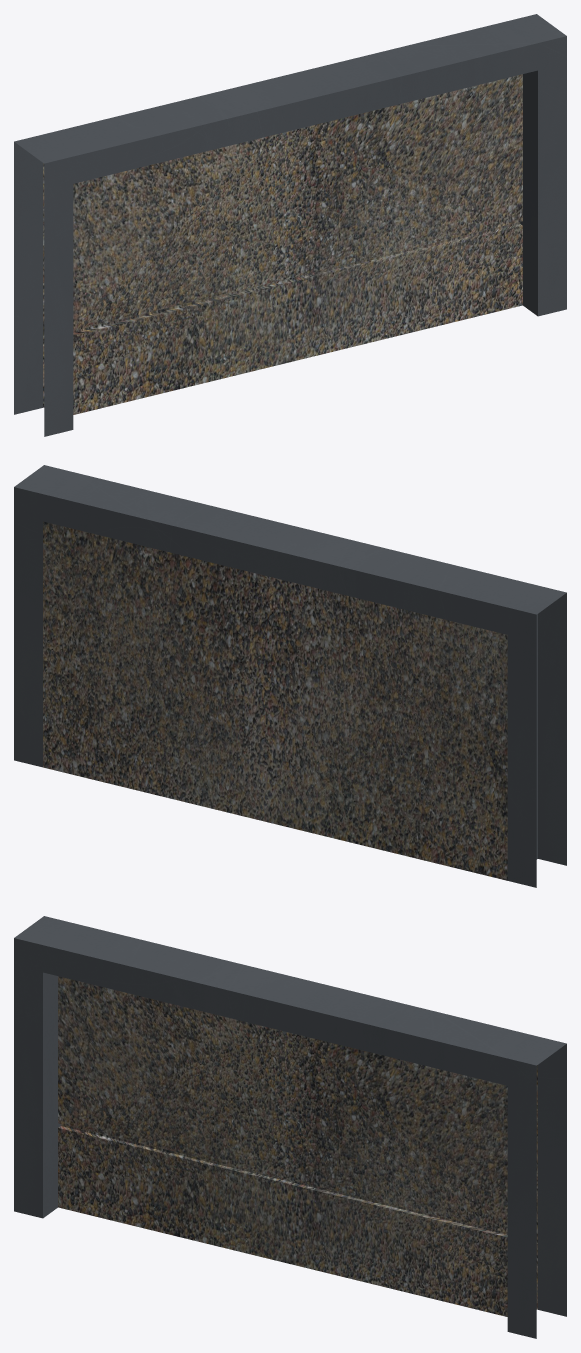
The model's file is WallTop.glb.
3 views of the same model, one above another, from view 1: azimuth 30°, elevation 25°; view 2: azimuth 150°, elevation 25°; view 3: azimuth 330°, elevation 25° (orthographic).
Visible parts, largest first — view 1: WallTop; view 2: WallTop; view 3: WallTop.
Part boxes in pixels (x1=…): WallTop: x1=14, y1=14, x2=566, y2=436; WallTop: x1=14, y1=465, x2=566, y2=887; WallTop: x1=14, y1=916, x2=566, y2=1338.
Bounding box in the file's own units: 8 × 4 × 0.7999.
Materials: 2 (2 with a texture image).
